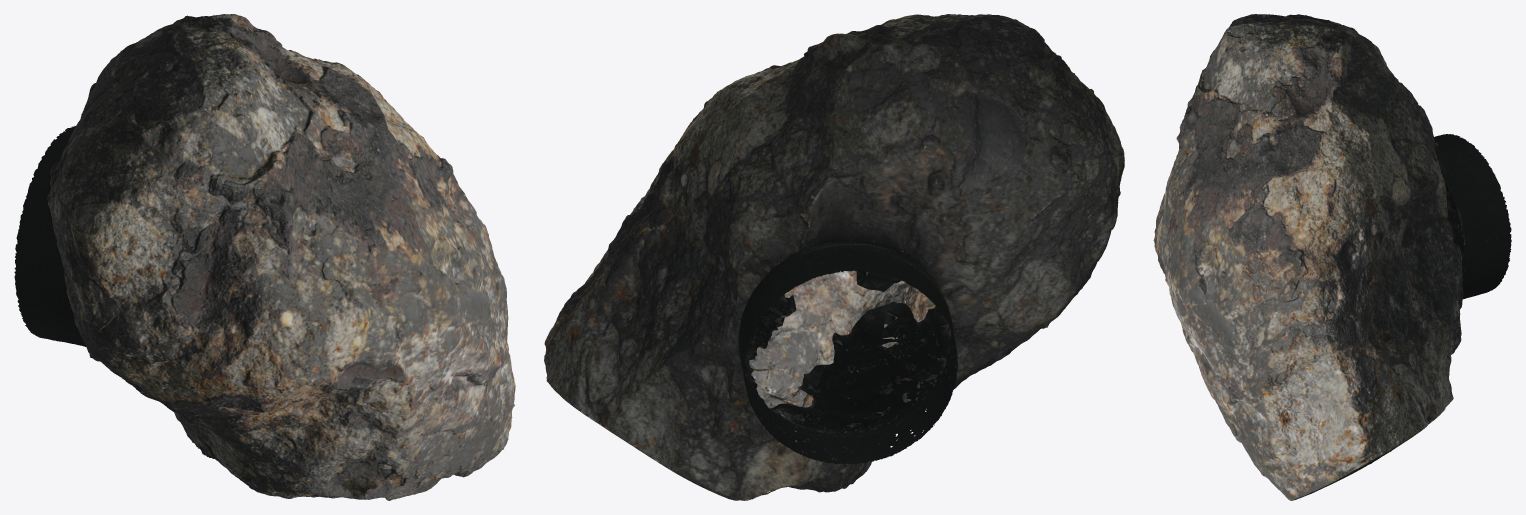
File: meteorit2.glb
The picture shows the model from 3 angles, left to right: view 1: azimuth 30°, elevation 25°; view 2: azimuth 150°, elevation 25°; view 3: azimuth 270°, elevation 25°; orthographic projection. The views are drawn at different scales.
Parts seen in each view (by area): view 1: Object_7, Object_3, Object_2, Object_6, Object_4, Object_8, Object_5; view 2: Object_6, Object_3, Object_2, Object_4, Object_7, Object_5, Object_8; view 3: Object_3, Object_2, Object_4, Object_7, Object_6, Object_8, Object_5.
Boxes of the visible parts, <box> form: Object_7: <box>14,14,515,498</box>; Object_3: <box>18,14,514,499</box>; Object_2: <box>14,14,505,500</box>; Object_6: <box>14,18,499,497</box>; Object_4: <box>15,15,515,499</box>; Object_8: <box>16,18,514,495</box>; Object_5: <box>15,16,513,497</box>; Object_6: <box>545,17,1124,500</box>; Object_3: <box>544,14,1122,499</box>; Object_2: <box>544,14,1123,499</box>; Object_4: <box>546,15,1124,499</box>; Object_7: <box>545,14,1124,500</box>; Object_5: <box>547,15,1124,500</box>; Object_8: <box>545,17,1121,498</box>; Object_3: <box>1161,14,1498,500</box>; Object_2: <box>1174,14,1504,500</box>; Object_4: <box>1154,15,1508,499</box>; Object_7: <box>1153,14,1493,498</box>; Object_6: <box>1154,15,1511,498</box>; Object_8: <box>1155,15,1511,496</box>; Object_5: <box>1154,15,1508,497</box>.
Bounding box in the file's own units: 4.31 × 4.04 × 3.48.
2 materials, 2 textured.
